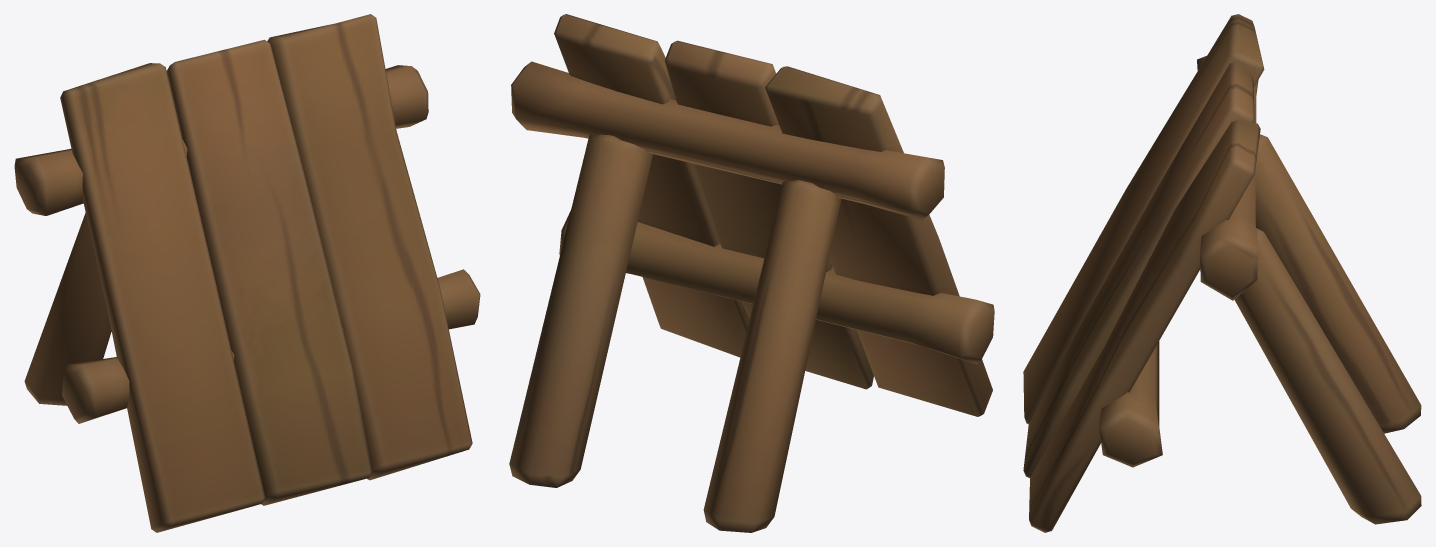
File: Sign.fbx
The picture shows the model from 3 angles, left to right: view 1: azimuth 30°, elevation 25°; view 2: azimuth 150°, elevation 25°; view 3: azimuth 270°, elevation 25°; orthographic projection. The views are drawn at different scales.
Parts seen in each view (by area): view 1: Cylinder.017; view 2: Cylinder.017; view 3: Cylinder.017.
Part boxes in pixels (bbox=[...]): Cylinder.017: bbox=[14, 14, 480, 532]; Cylinder.017: bbox=[509, 14, 994, 532]; Cylinder.017: bbox=[1023, 14, 1421, 532].
Size of the model in its own units: 95.03 by 87.86 by 81.66.
Materials: 1 (1 with a texture image).
